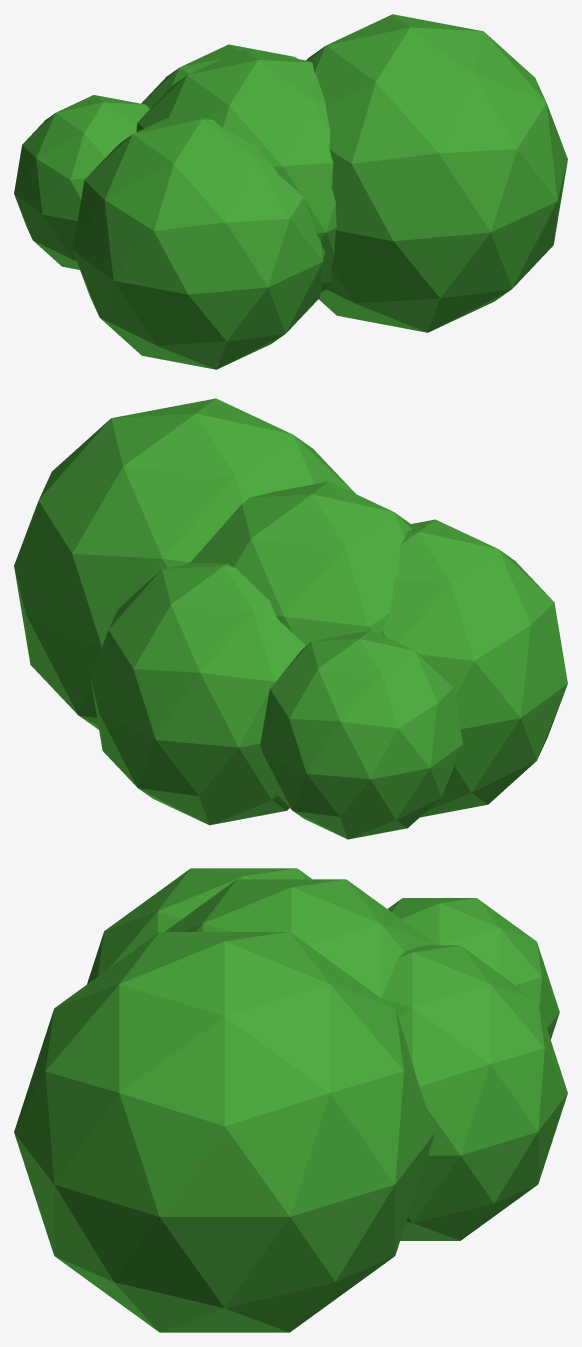
Rendered from Bush3.fbx.
3 views of the same model, one above another, from view 1: azimuth 30°, elevation 25°; view 2: azimuth 150°, elevation 25°; view 3: azimuth 270°, elevation 25° (orthographic). The views are drawn at different scales.
Visible parts, largest first — view 1: Bush3; view 2: Bush3; view 3: Bush3.
Part boxes in pixels (x1,y1,x2,y2): Bush3: (14,14,567,369); Bush3: (14,398,567,839); Bush3: (14,868,567,1332).
Bounding box in the file's own units: 754 × 476 × 626.
